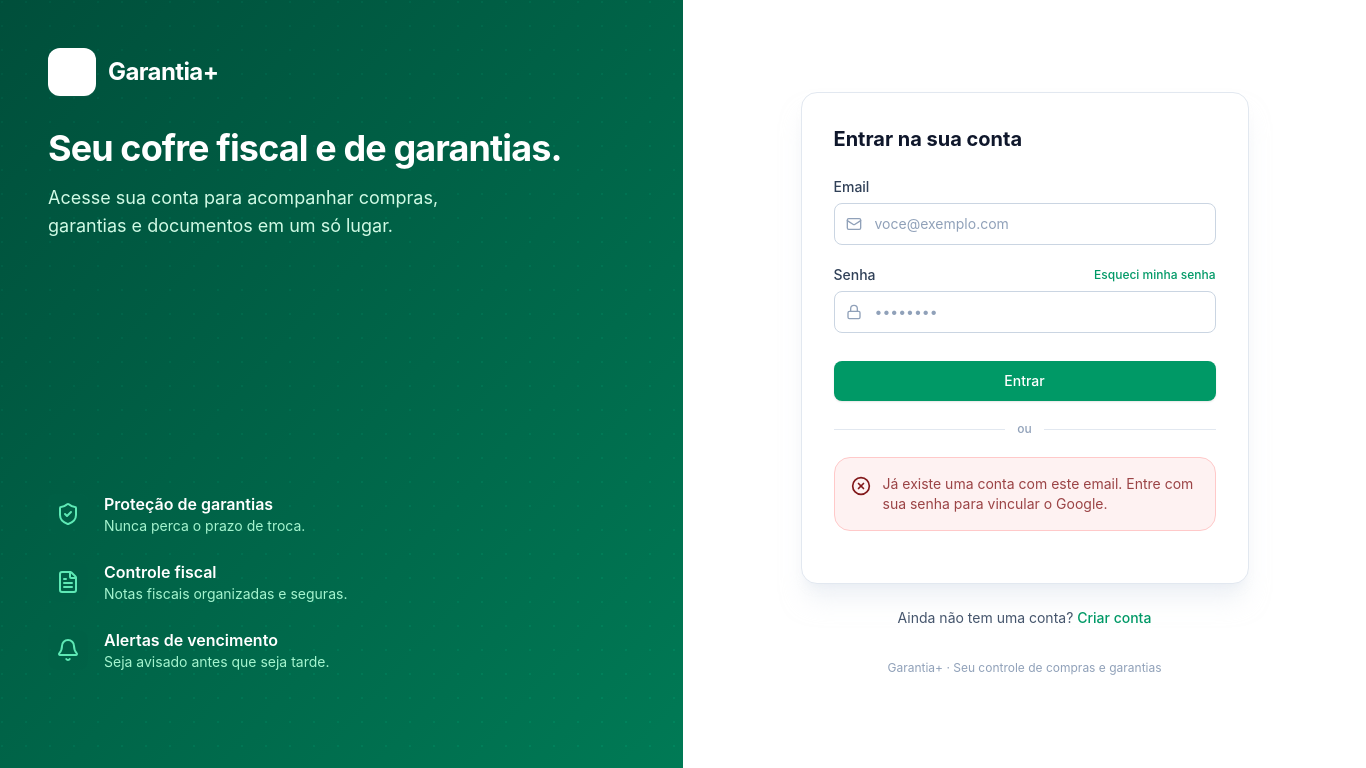
it: Login — credential Google pendente (GOOGLE_ACCOUNT_LINK_REQUIRED) › login por senha que falha não persiste a credential pendente
Expected: the text "Já existe uma conta com este email. Entre com sua senha para vincular o Google." is shown, left=882, top=474, right=1198, bottom=514
Type "ada@example.com" into the field labelled "Email" at (1024, 224), box left=834, top=203, right=1216, bottom=245
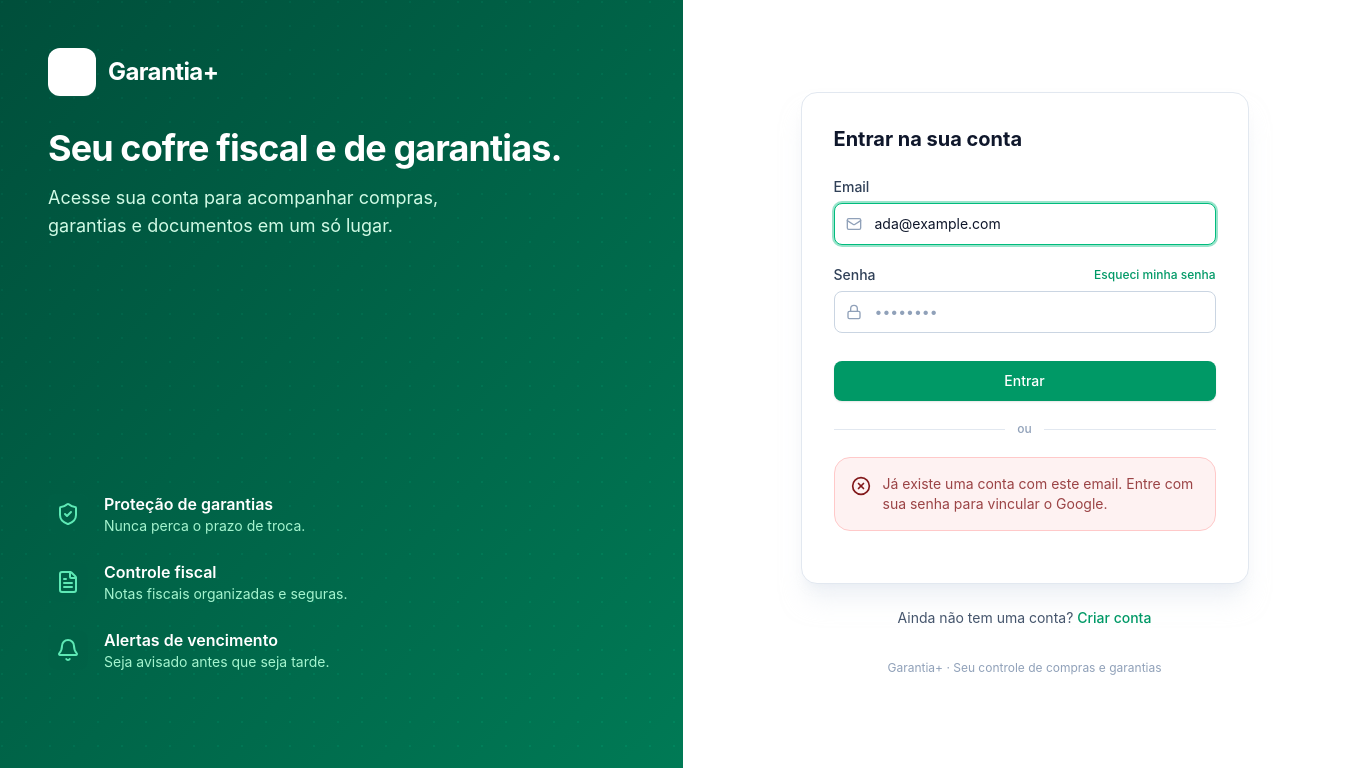
Type "supersecret" into the password field labelled "Senha" at (1024, 312), box left=834, top=291, right=1216, bottom=333
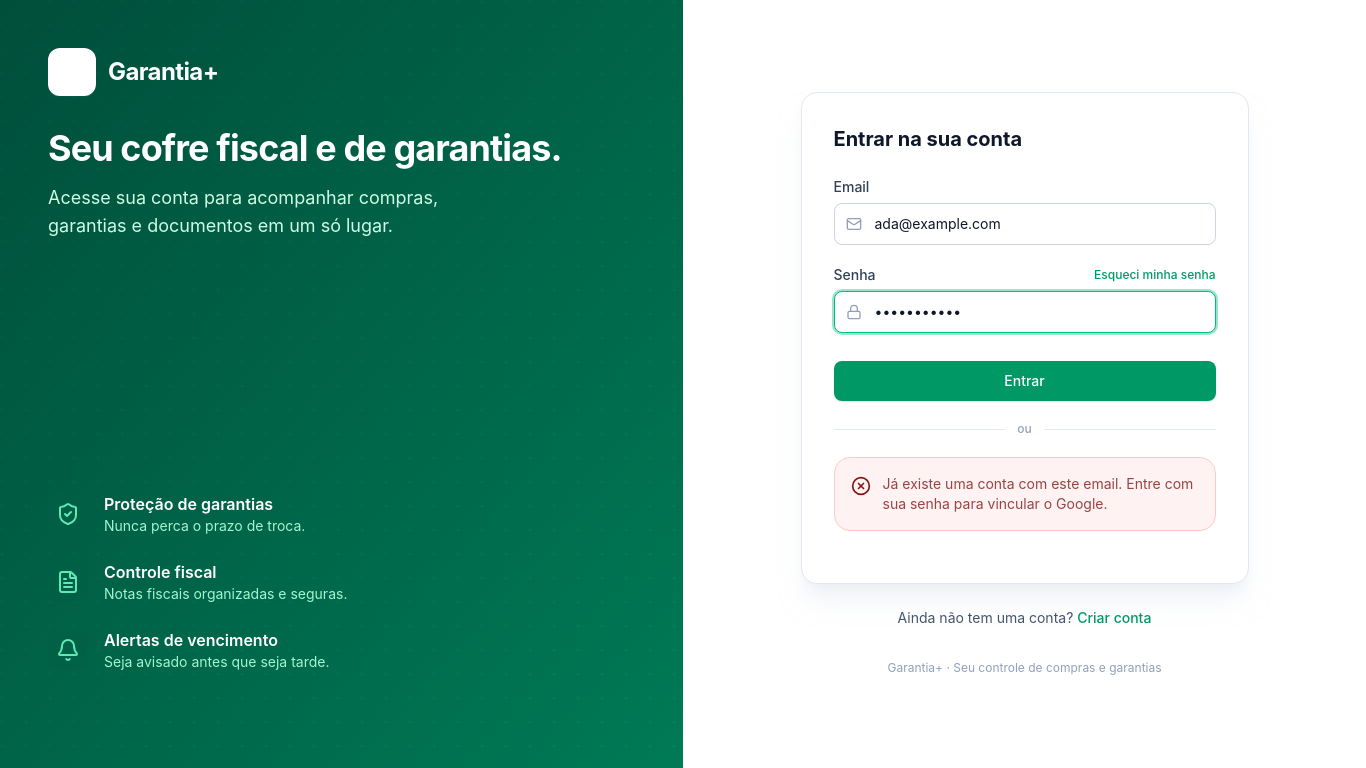
Click the button "Entrar" at (1024, 381), box left=834, top=361, right=1216, bottom=401
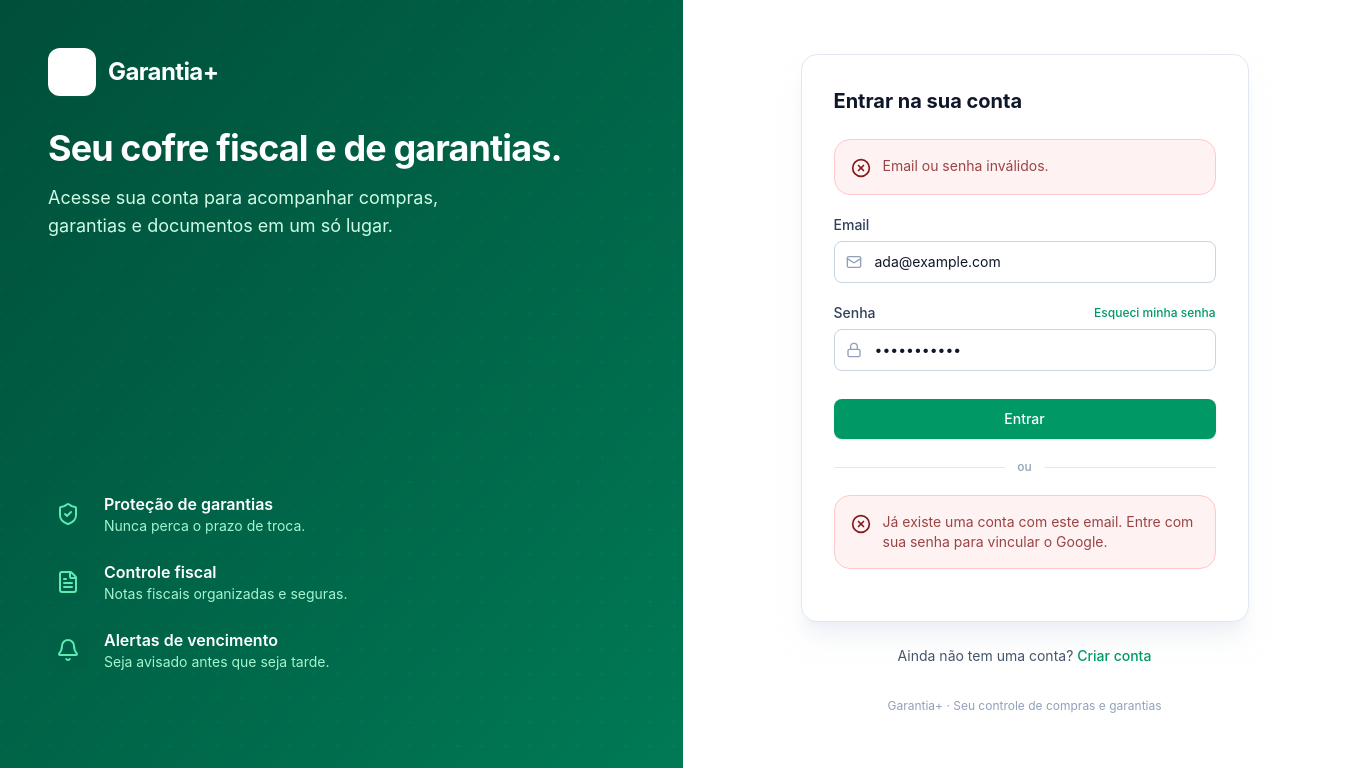
Expected: the text "Email ou senha inválidos." is shown, left=882, top=157, right=1049, bottom=174
